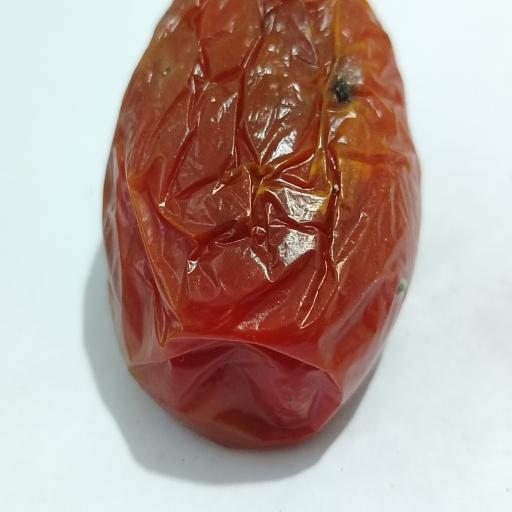spoiled: (103, 0, 420, 447)
